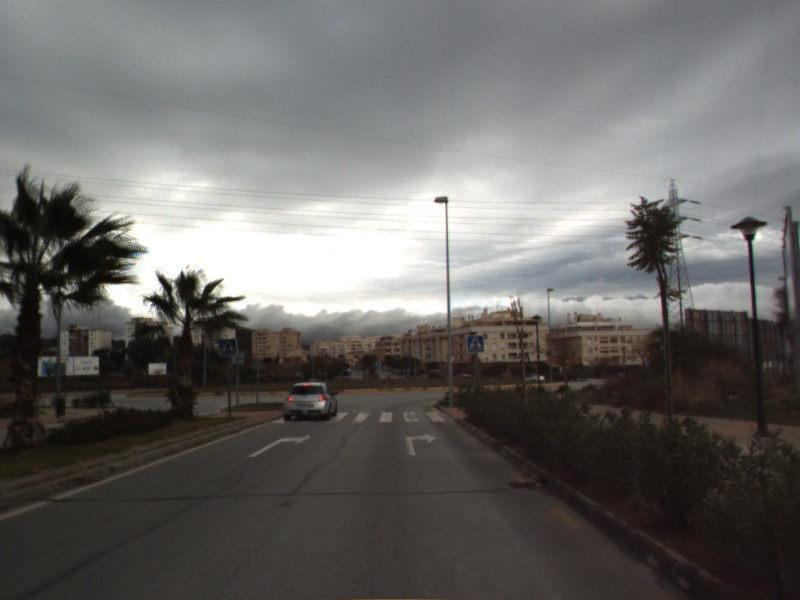RIGHT: (246, 432, 312, 459), (403, 431, 439, 457)
